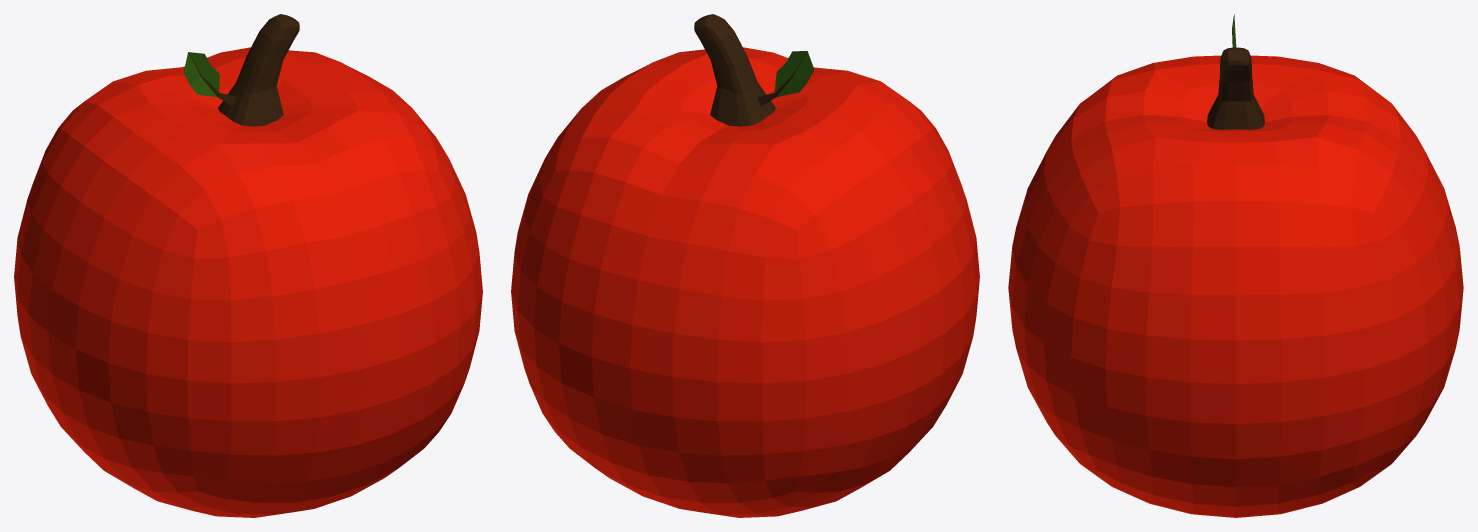
The model's file is Fruit_Collectable.fbx.
The picture shows the model from 3 angles, left to right: view 1: azimuth 30°, elevation 25°; view 2: azimuth 150°, elevation 25°; view 3: azimuth 270°, elevation 25°; orthographic projection.
Parts seen in each view (by area): view 1: Cube; view 2: Cube; view 3: Cube.
Boxes of the visible parts, <box> form: Cube: <box>14,14,482,517</box>; Cube: <box>511,14,979,517</box>; Cube: <box>1008,14,1463,517</box>.
Size of the model in its own units: 160 by 160 by 180.
